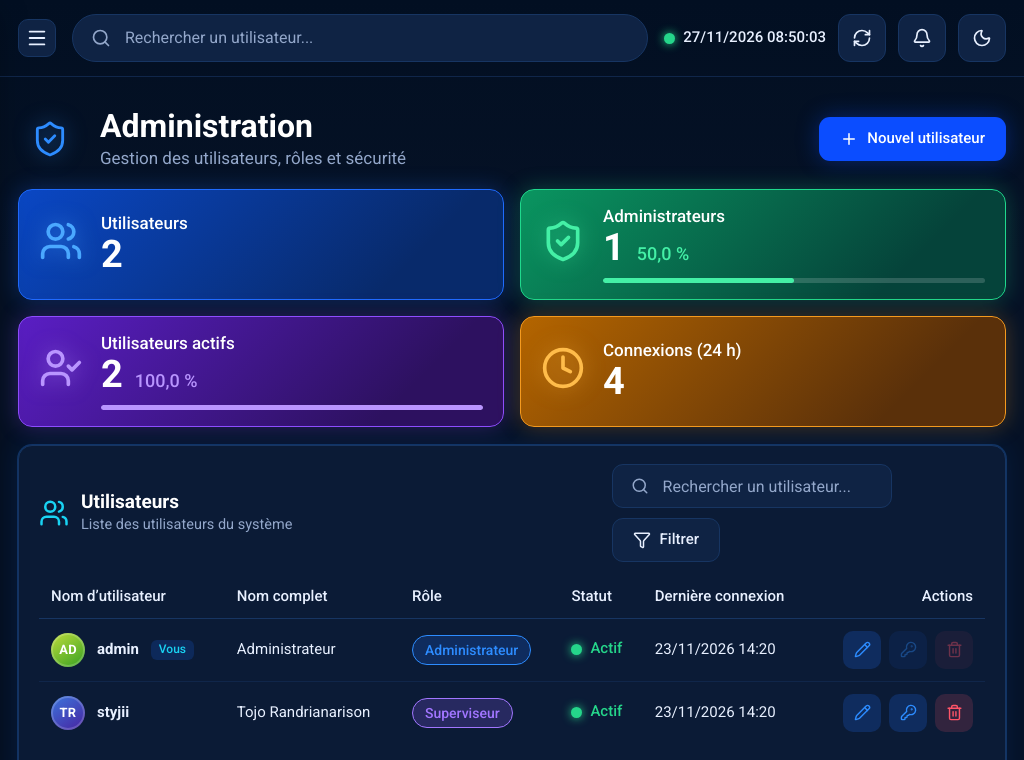
Scenario: administration des utilisateurs › crée un compte et montre le mot de passe temporaire une seule fois
The width and height of the screenshot is (1024, 760).
Step 1. Click the button "Nouvel utilisateur" → (913, 139), box [819,117,1006,161]
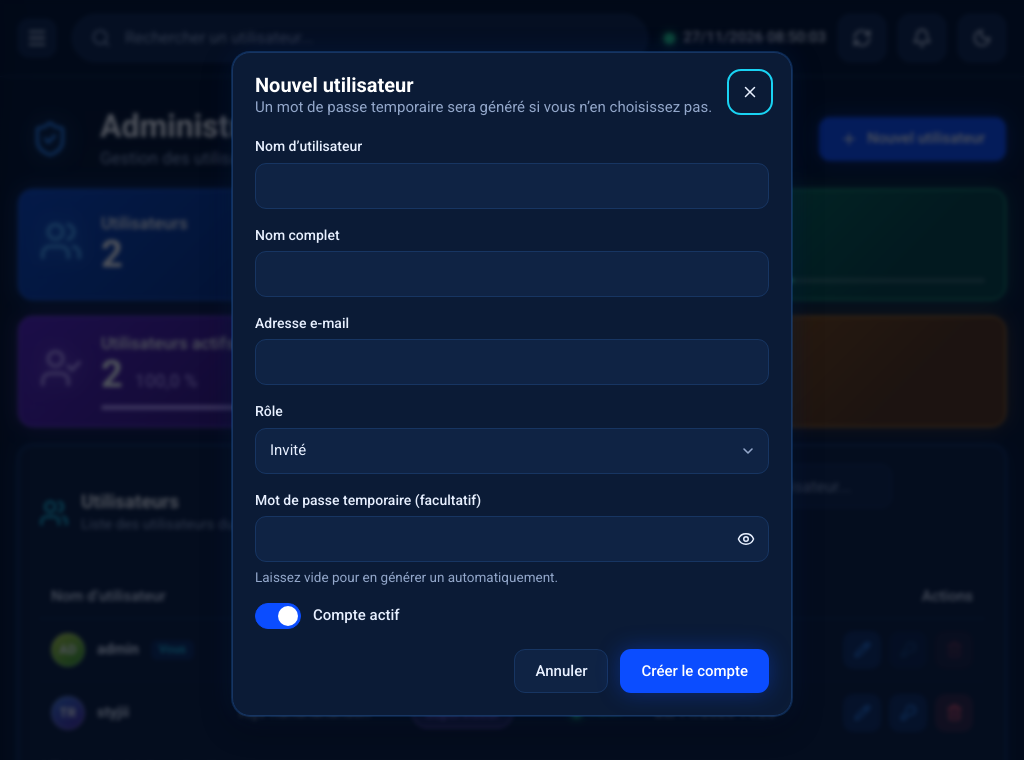
Step 2. Type "Nouveau" into the field labelled "Nom d’utilisateur" → (512, 186), box [255,163,769,209]
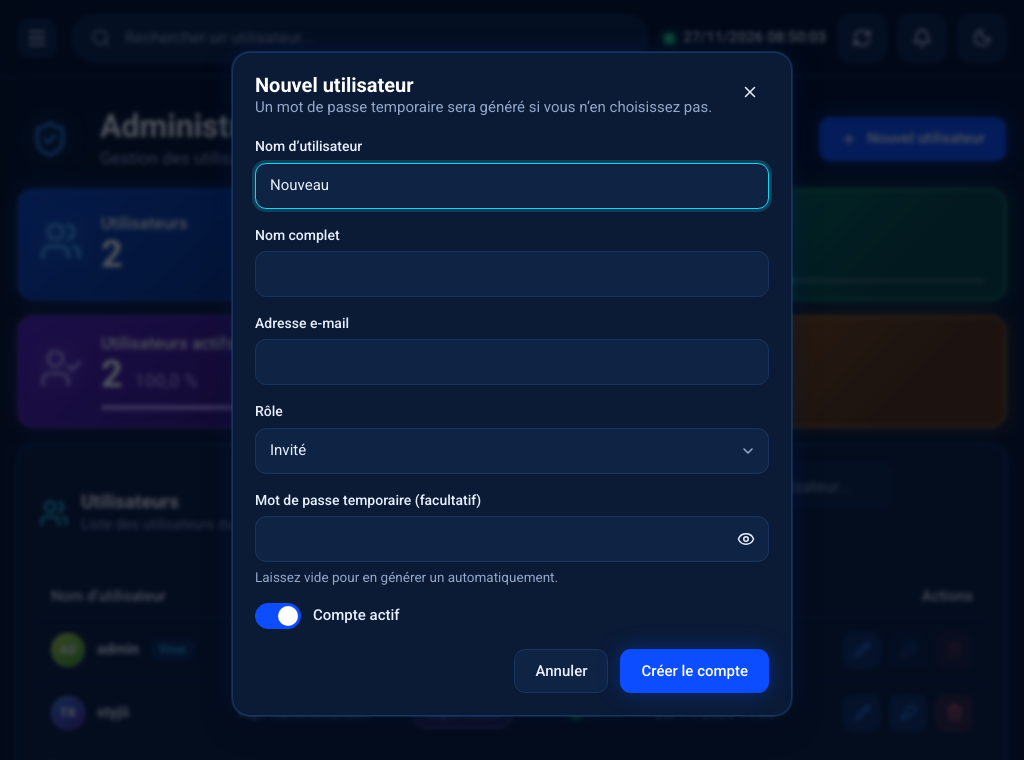
Step 3. Select "Opérateur" in the dropdown labelled "Rôle" → (512, 450), box [255,428,769,474]
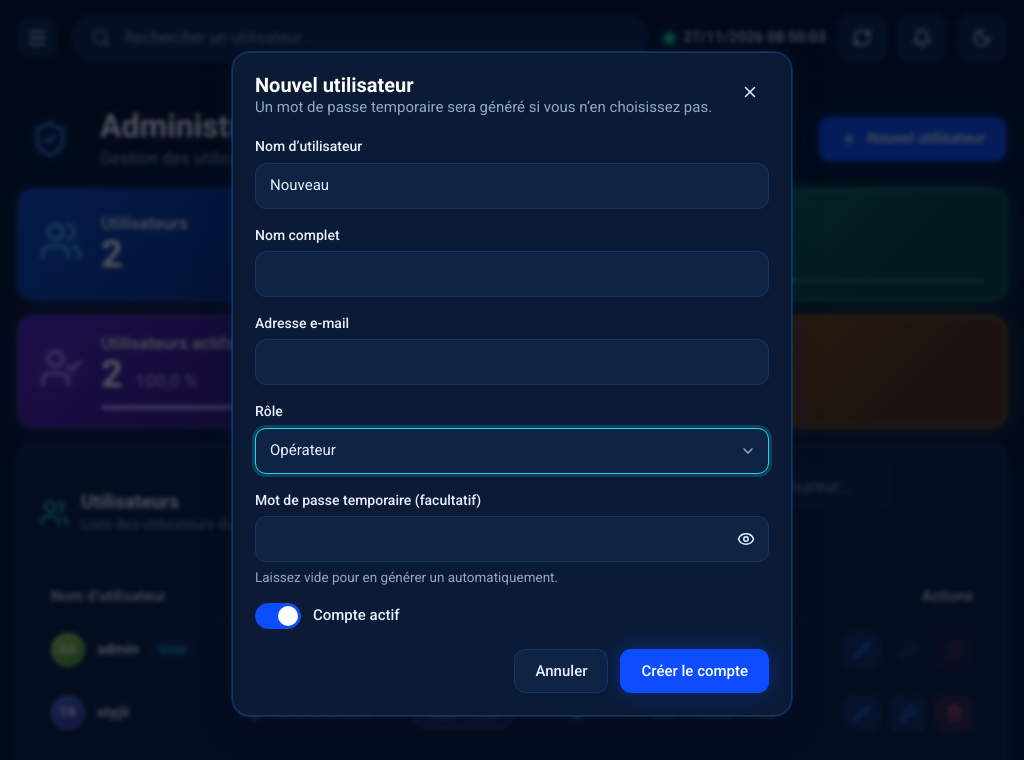
Step 4. Click the button "Créer le compte" → (695, 671), box [620,649,769,693]
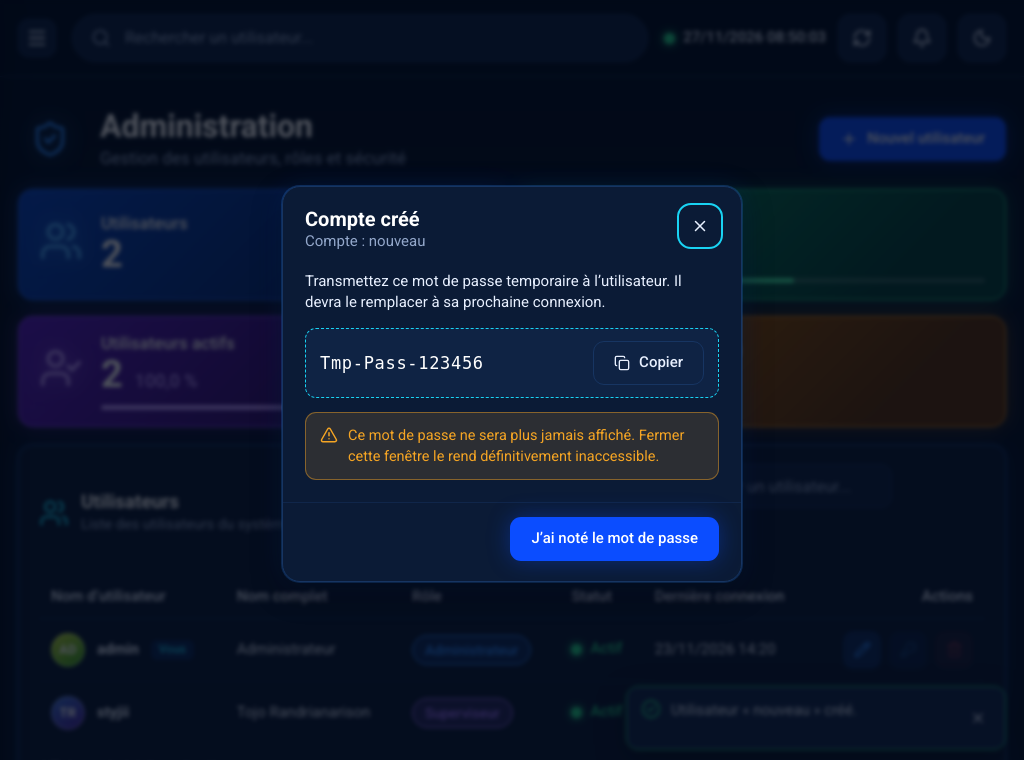
Now the text with test id "temporary-password" reads "Tmp-Pass-123456", box [320,353,484,373]
